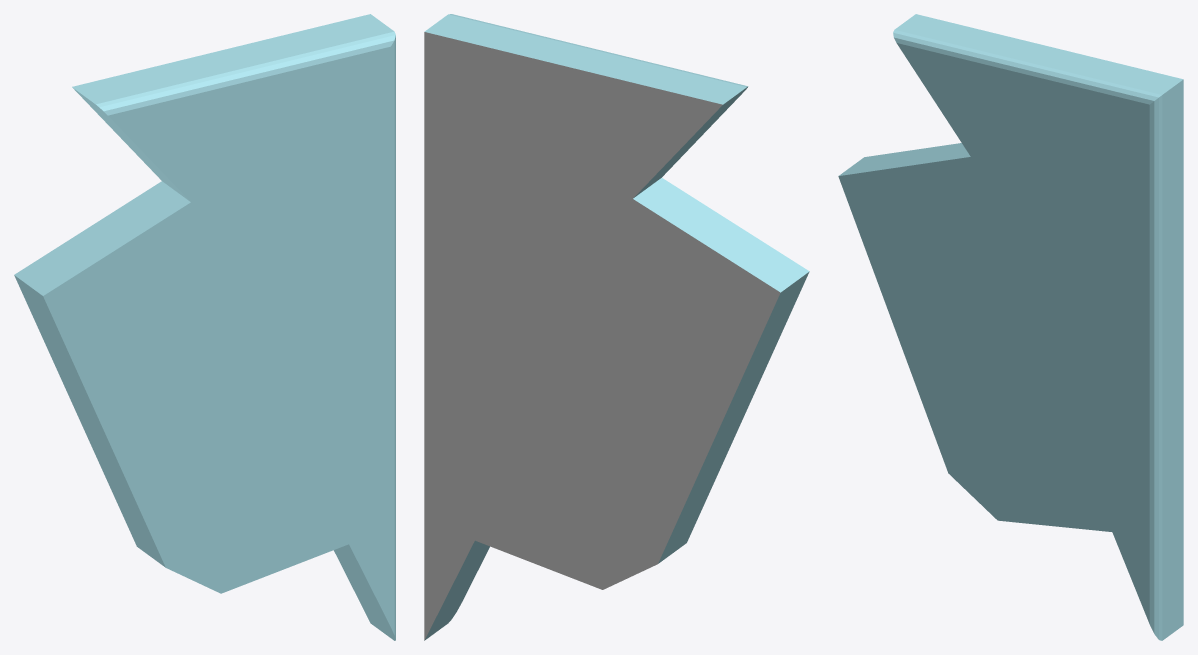
File: chrome1.glb
3 views of the same model, side by side, from view 1: azimuth 30°, elevation 25°; view 2: azimuth 150°, elevation 25°; view 3: azimuth 330°, elevation 25° (orthographic). The views are drawn at different scales.
Visible parts, largest first — view 1: Plane.001; view 2: Plane.001; view 3: Plane.001.
Boxes of the visible parts, box(x1,y1,x2,y2) form: Plane.001: box(14, 14, 395, 640); Plane.001: box(424, 14, 809, 640); Plane.001: box(838, 14, 1183, 640).
Bounding box in the file's own units: 35.44 × 57.89 × 5.
